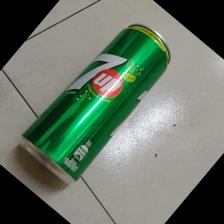7up: (18, 23, 172, 185)
